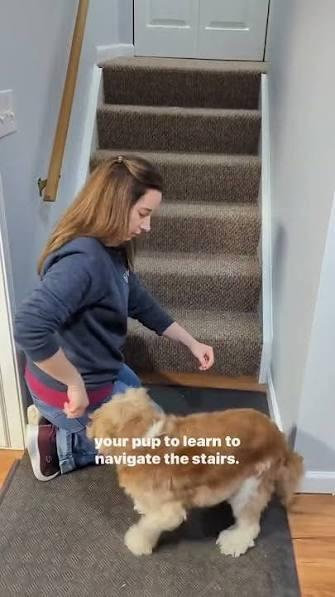adult_dog: (84, 383, 306, 559)
non-dog: (12, 151, 221, 482)
